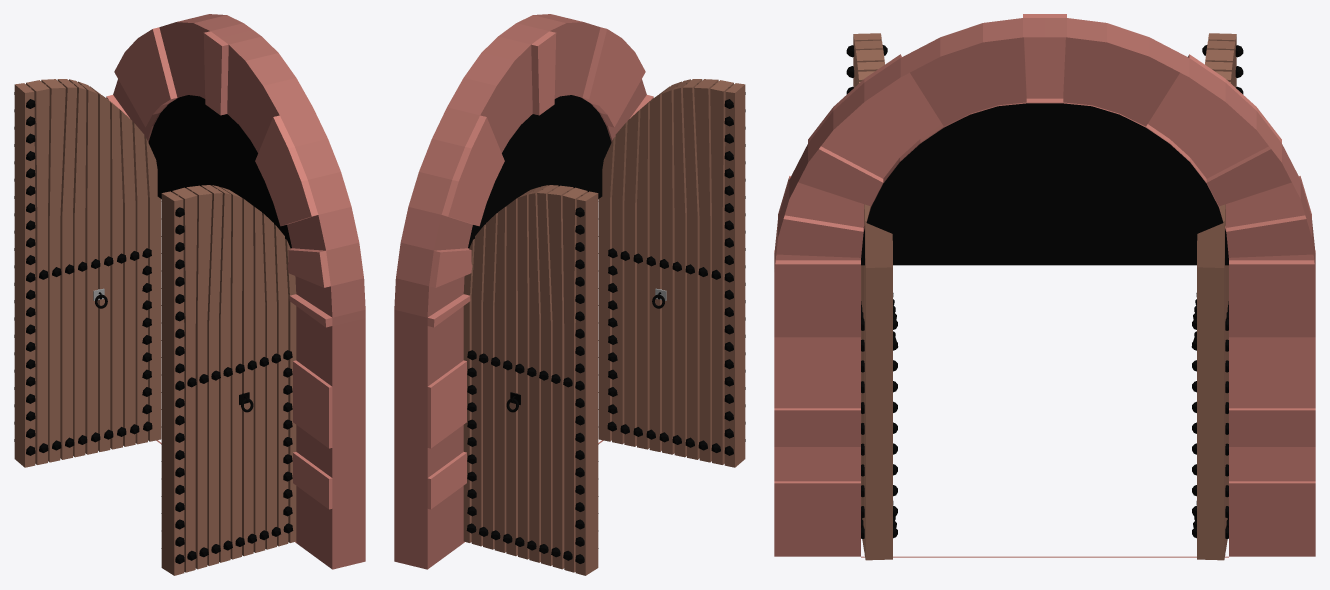
File: Gates.fbx
The picture shows the model from 3 angles, left to right: view 1: azimuth 30°, elevation 25°; view 2: azimuth 150°, elevation 25°; view 3: azimuth 270°, elevation 25°; orthographic projection. The views are drawn at different scales.
Visible parts, largest first — view 1: Door, Doorframe; view 2: Door, Doorframe; view 3: Doorframe, Door.
Boxes of the visible parts, x1,y1,x2,y2 form: Door: (14, 79, 296, 575); Doorframe: (106, 14, 365, 569); Door: (463, 79, 745, 575); Doorframe: (394, 14, 653, 569); Doorframe: (774, 14, 1315, 557); Door: (846, 33, 1243, 560).
Bounding box in the file's own units: 193 × 520 × 474.
